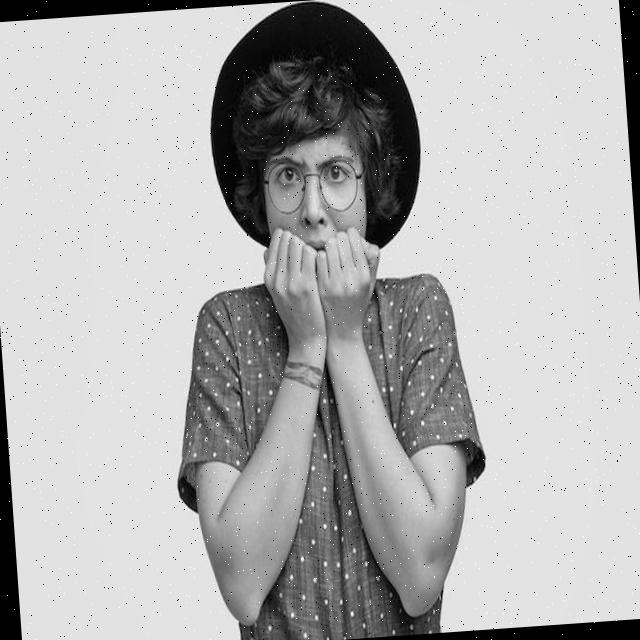Fear: (260, 114, 372, 316)
